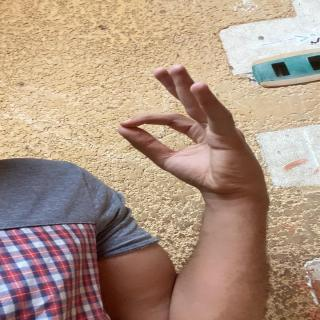Space: (114, 64, 259, 192)
